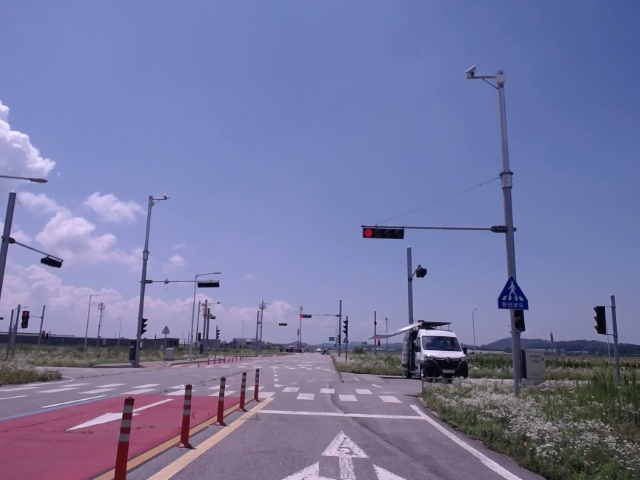red_4: (362, 227, 404, 239)
